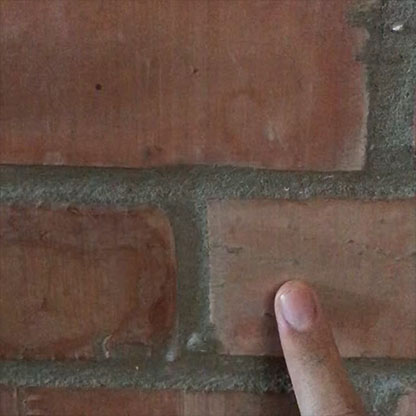fingertip: (266, 273, 335, 342)
